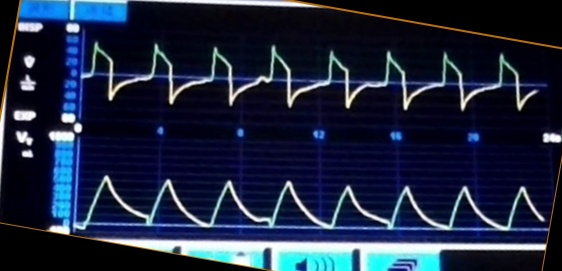Ineffective_effort Flow: (83, 34, 537, 114)
Ineffective_effort Volume: (78, 166, 547, 234)
